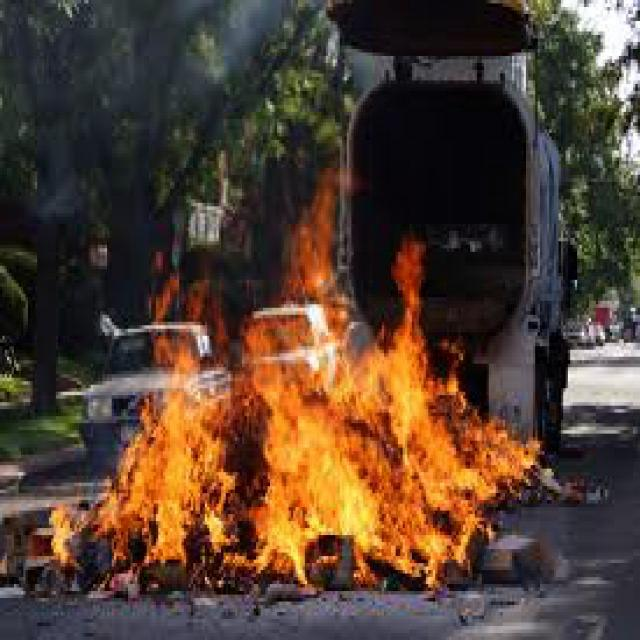fire: (108, 327, 534, 576)
